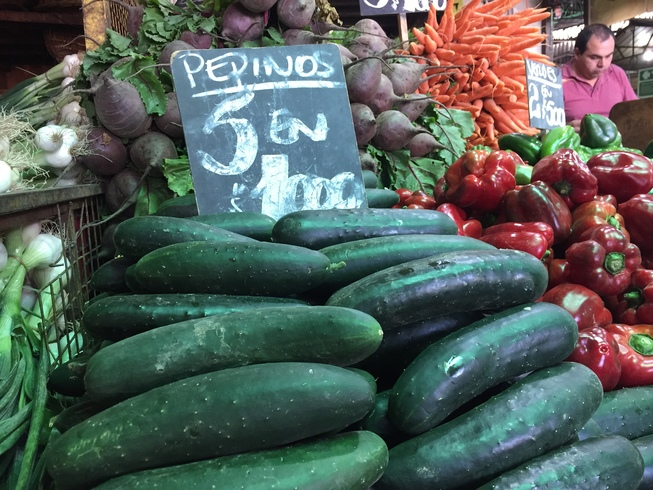precio: (168, 44, 369, 217), (527, 58, 567, 132)
